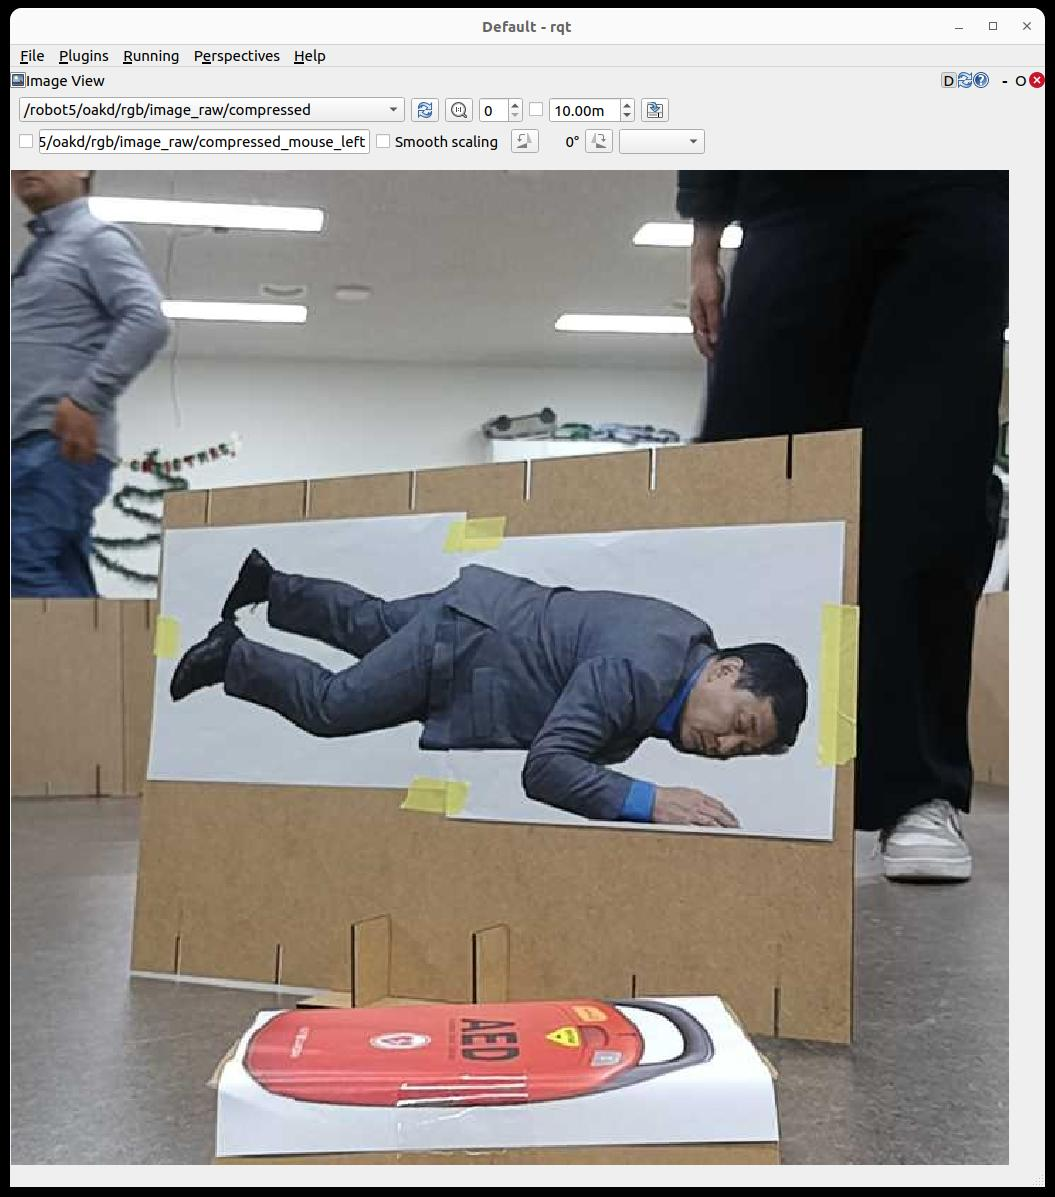AED: (245, 999, 712, 1106)
Patient: (170, 550, 806, 826)
